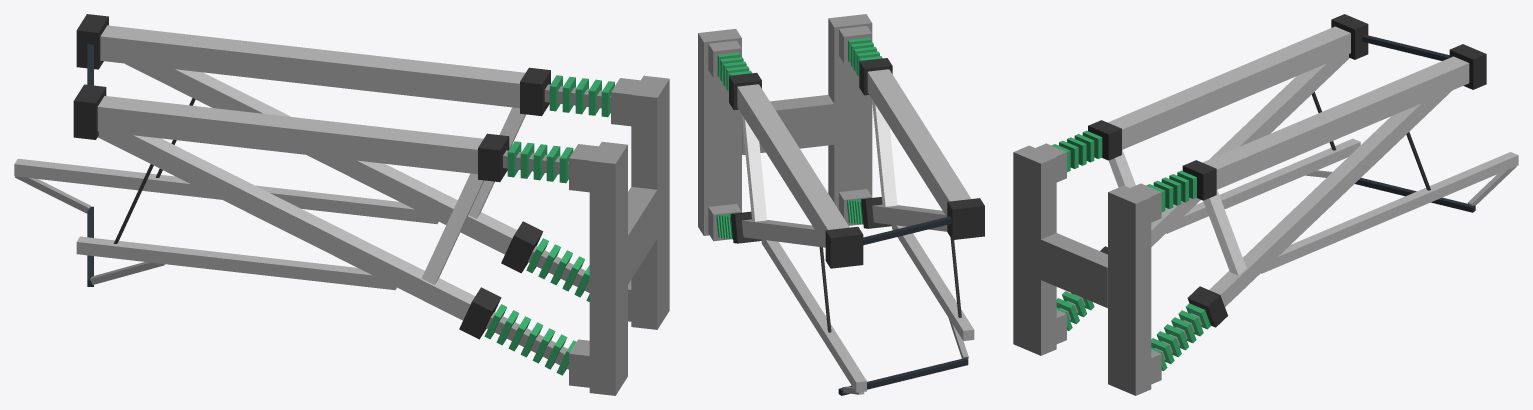
Rendered from catenary_grid_c1_45.obj.
3 renders of one model, left to right at view 1: azimuth 30°, elevation 25°; view 2: azimuth 150°, elevation 25°; view 3: azimuth 270°, elevation 25°, orthographic. The views are drawn at different scales.
Parts seen in each view (by area): view 1: cube; view 2: cube; view 3: cube.
Boxes of the visible parts, bbox=[...] form: cube: bbox=[14, 14, 669, 395]; cube: bbox=[698, 14, 984, 395]; cube: bbox=[1013, 14, 1518, 395].
Bounding box in the file's own units: 2.52 × 1.19 × 2.83.
